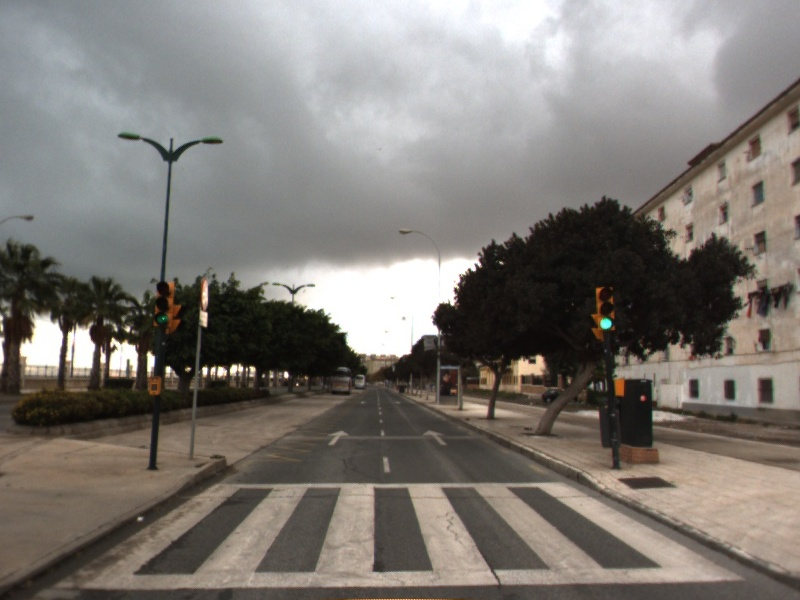STRAIGHT: (324, 428, 353, 448), (420, 428, 450, 447)
